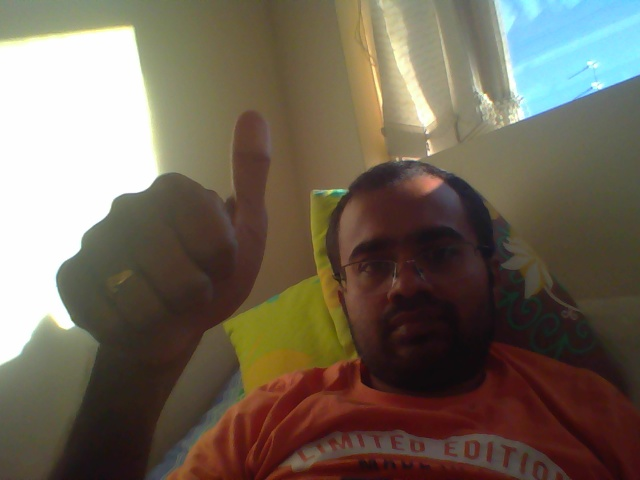ThumbsUp: (50, 104, 272, 355)
